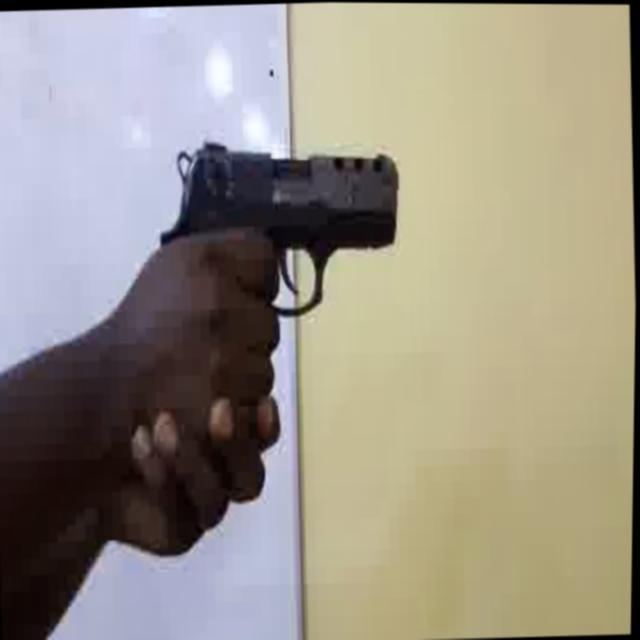weapon: (153, 132, 404, 329)
